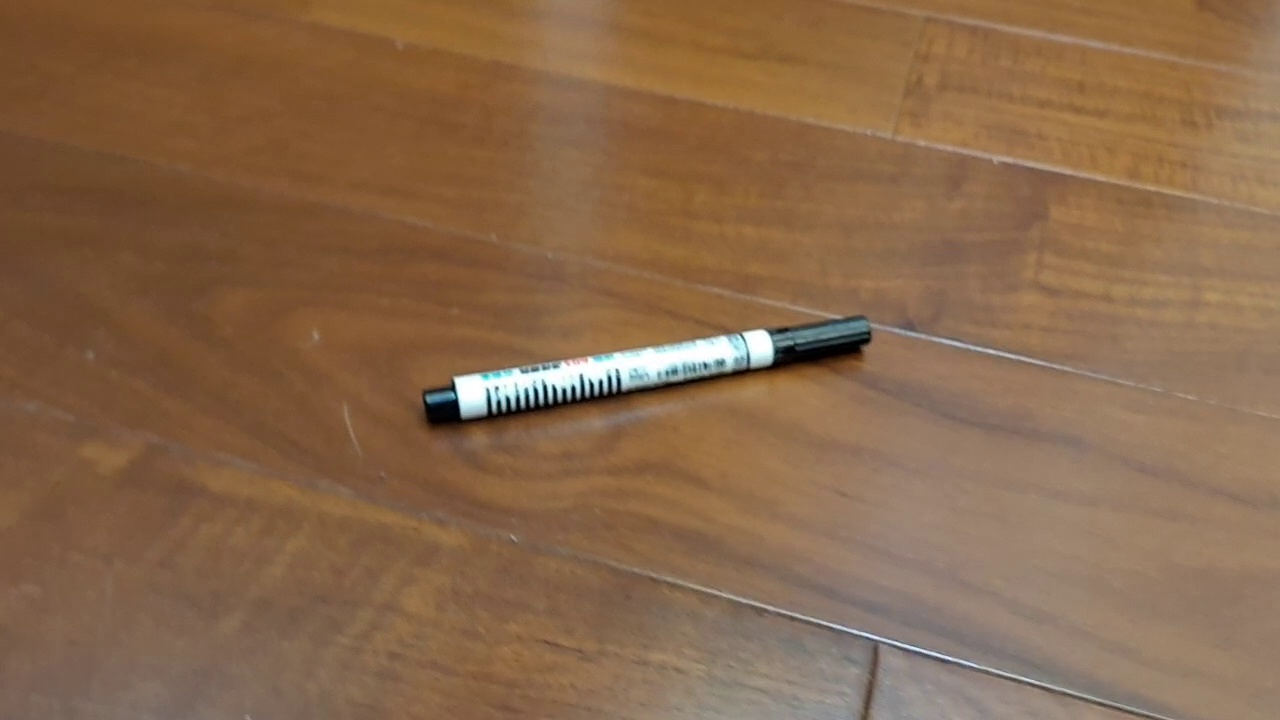pen: (421, 315, 873, 426)
